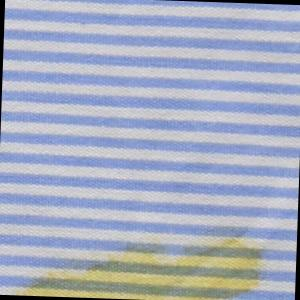Oil Stain: (20, 228, 270, 300)
